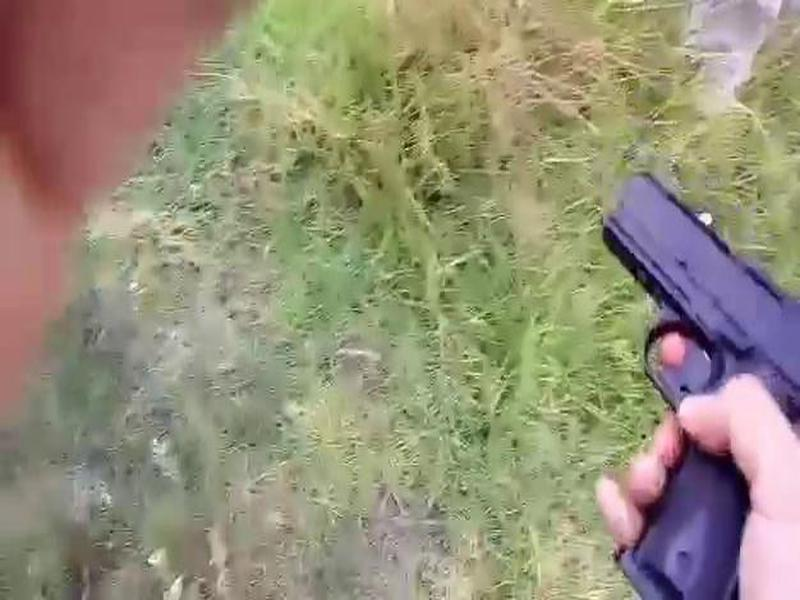Pistola: (581, 148, 800, 522)
